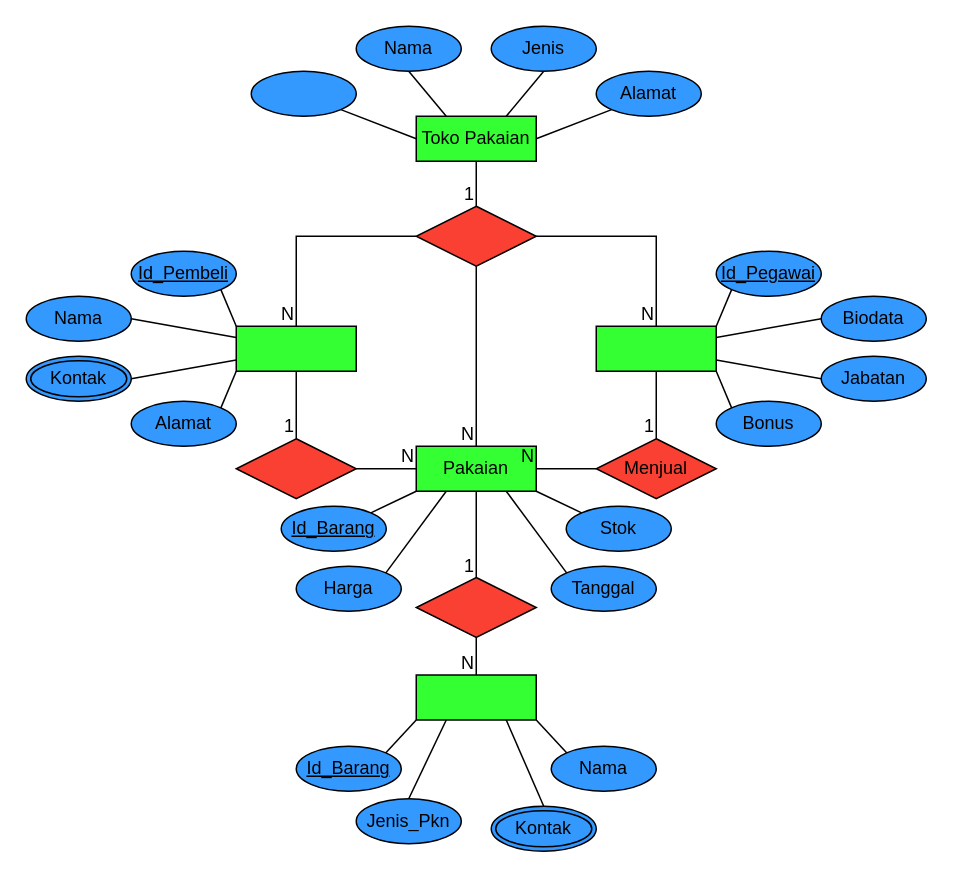
The diagram is 953 pixels wide and 878 high, and some of its shapes have lost their labels. Each missing label, with the centre of its shape:
Memasok: the point at 475,607
Membeli: the point at 295,468
Memiliki: the point at 475,235
NIB: the point at 303,93
Pegawai: the point at 655,348
Pemasok: the point at 475,697
Pembeli: the point at 295,348
